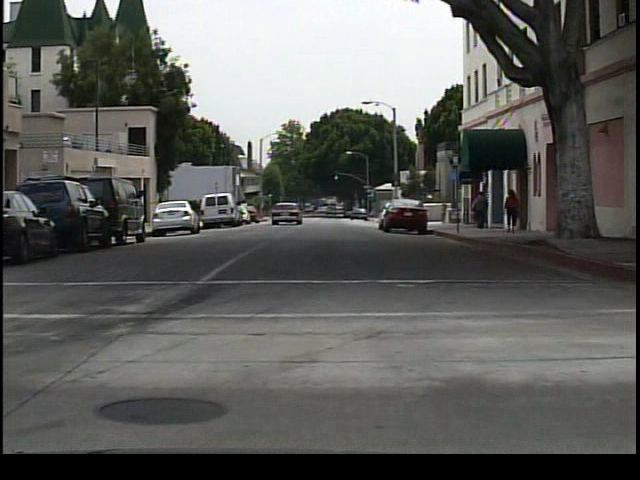person: (502, 185, 524, 235), (470, 190, 490, 232)
